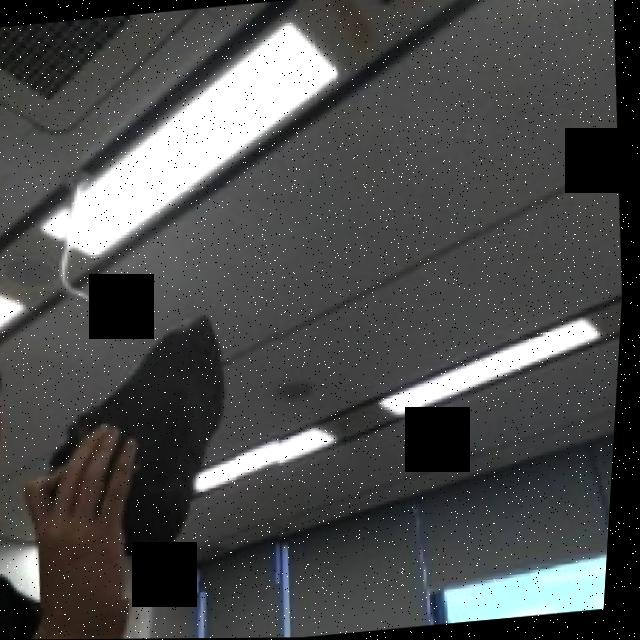shoe: (21, 282, 308, 608)
